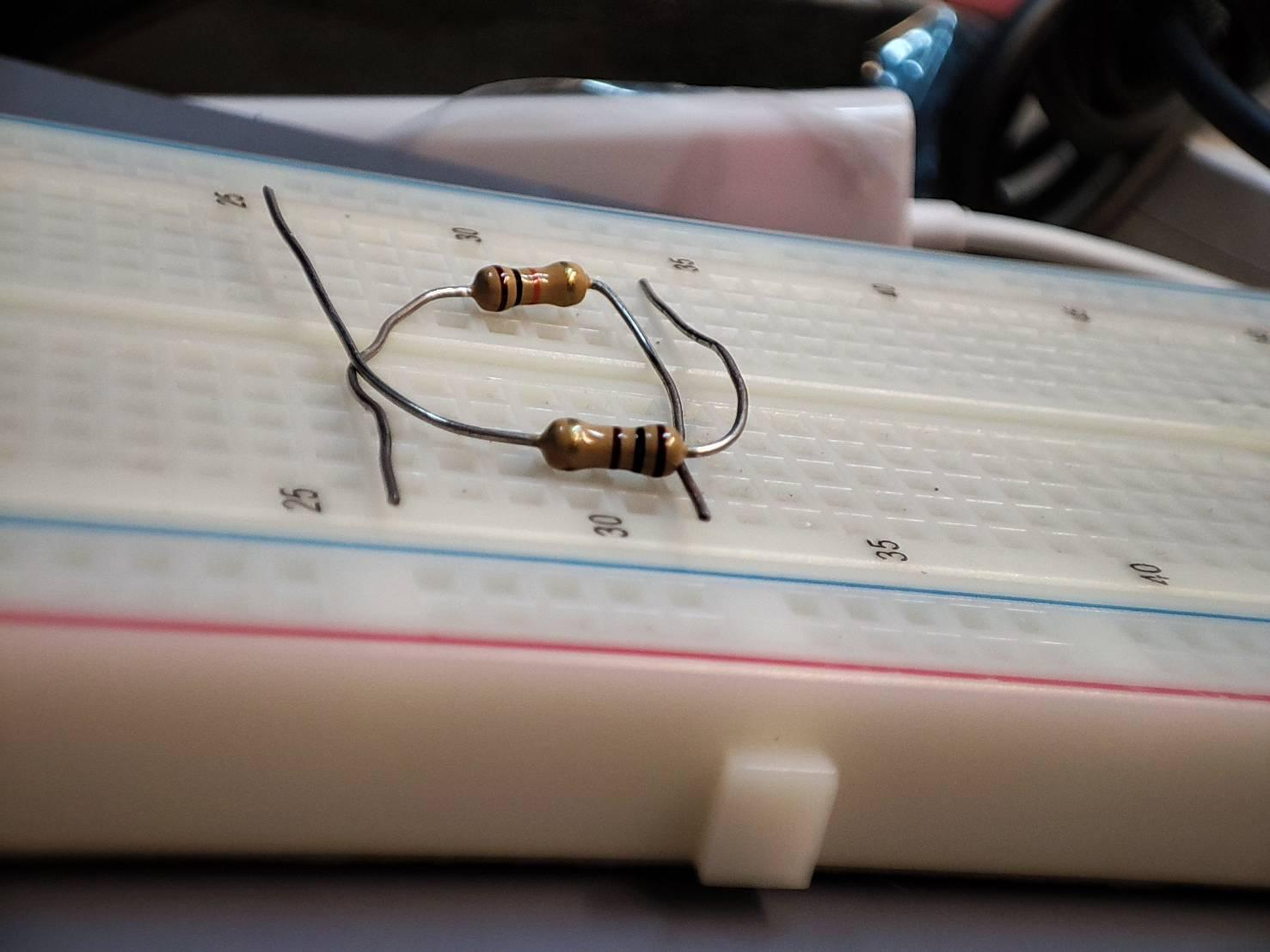resistor: (470, 258, 598, 314)
